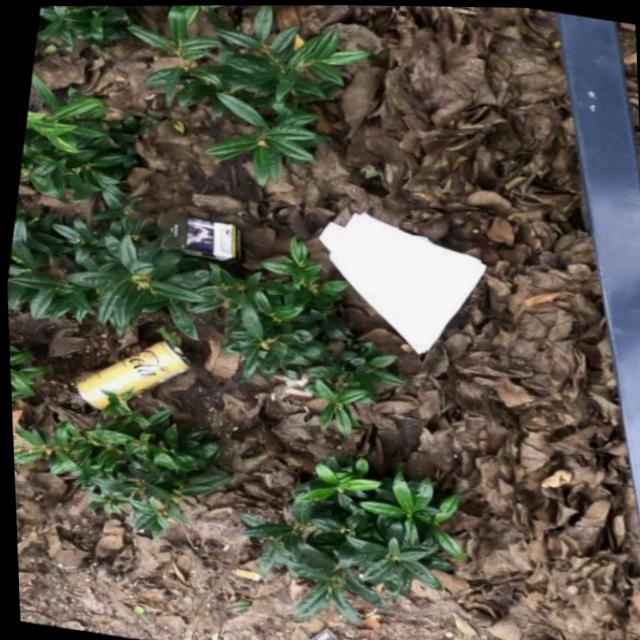Can-Metal: (70, 336, 192, 412)
Paper: (314, 206, 489, 357), (158, 210, 242, 262)
Plastic: (301, 623, 332, 640)
